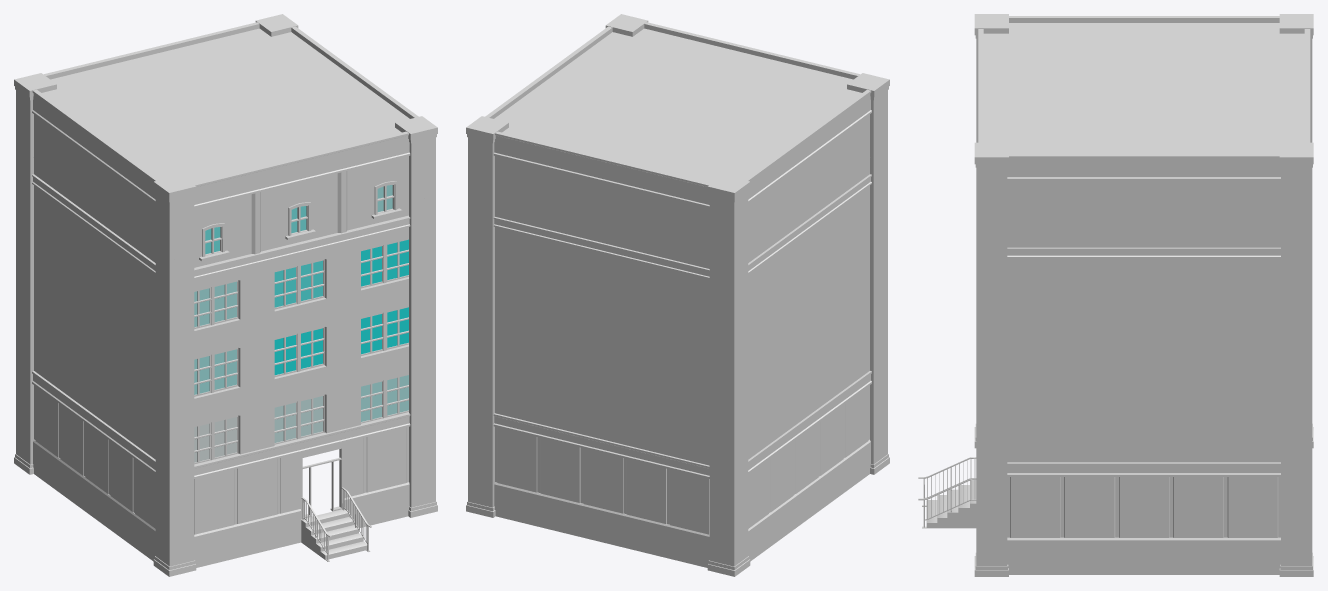
The model's file is Building_Small_1.gltf.
The picture shows the model from 3 angles, left to right: view 1: azimuth 30°, elevation 25°; view 2: azimuth 150°, elevation 25°; view 3: azimuth 270°, elevation 25°; orthographic projection. The views are drawn at different scales.
Visible parts, largest first — view 1: Building_Small_1; view 2: Building_Small_1; view 3: Building_Small_1.
Part boxes in pixels (bbox=[...]): Building_Small_1: bbox=[14, 14, 437, 576]; Building_Small_1: bbox=[466, 14, 889, 576]; Building_Small_1: bbox=[918, 14, 1313, 576].
Size of the model in its own units: 12.46 by 17.03 by 14.54.
